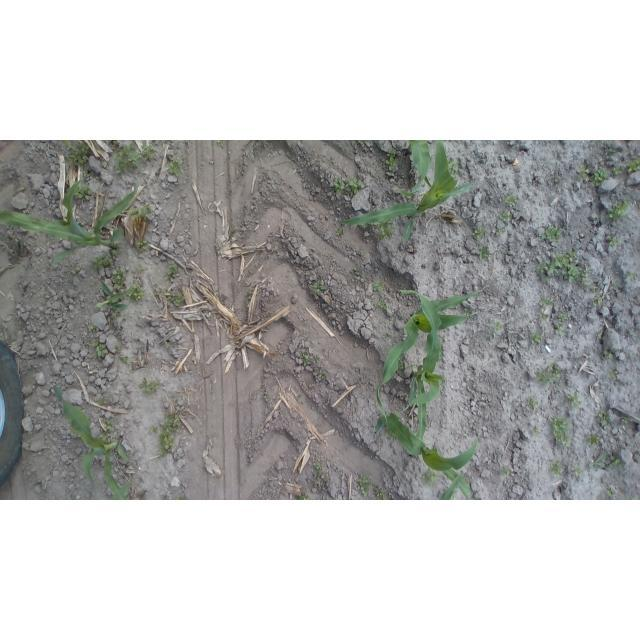Maize: (338, 143, 472, 243), (377, 291, 480, 421), (0, 179, 138, 266), (50, 383, 130, 500), (373, 414, 480, 499), (399, 287, 445, 443), (400, 140, 431, 196), (439, 474, 463, 500)
Weeds: (112, 141, 156, 176), (537, 252, 580, 283), (158, 413, 179, 456), (152, 284, 184, 308), (550, 416, 571, 446), (588, 451, 623, 469), (65, 142, 90, 167), (332, 178, 364, 197), (92, 249, 120, 270), (536, 364, 560, 385), (608, 200, 630, 221), (166, 155, 186, 177), (111, 265, 127, 292), (541, 226, 564, 244), (127, 205, 153, 220), (126, 283, 146, 302), (378, 219, 394, 242), (385, 149, 401, 171), (138, 378, 160, 394), (358, 473, 373, 496), (72, 184, 92, 201), (591, 168, 609, 186), (165, 261, 182, 279), (423, 468, 440, 485), (93, 340, 108, 359), (596, 410, 612, 426), (549, 460, 563, 477), (476, 245, 490, 262), (577, 163, 590, 181), (580, 267, 592, 286), (567, 392, 581, 408), (531, 331, 546, 345), (627, 156, 640, 172), (447, 158, 460, 174), (375, 488, 390, 500), (556, 324, 569, 337), (314, 280, 327, 293), (499, 210, 513, 222), (136, 239, 150, 251), (474, 224, 485, 239), (372, 280, 385, 292), (601, 489, 615, 500), (539, 297, 553, 308), (603, 349, 618, 359), (588, 432, 600, 444), (607, 368, 618, 381), (605, 149, 617, 160), (527, 396, 537, 408), (301, 352, 309, 367), (312, 461, 320, 476), (573, 467, 583, 478), (103, 420, 114, 430), (395, 188, 407, 197), (376, 300, 388, 309), (398, 355, 405, 370), (493, 321, 503, 331), (594, 295, 603, 306), (505, 196, 516, 205), (613, 166, 624, 175), (353, 140, 365, 148), (135, 264, 145, 273), (119, 356, 129, 365), (610, 235, 619, 245), (539, 312, 550, 320), (386, 429, 394, 440), (557, 312, 567, 320), (533, 426, 540, 437), (405, 364, 416, 371), (82, 171, 90, 180), (100, 432, 109, 440), (112, 311, 120, 320), (503, 468, 512, 476), (621, 417, 631, 424), (296, 495, 309, 500), (217, 140, 225, 148), (336, 228, 344, 236), (628, 272, 636, 280), (596, 330, 603, 339), (354, 268, 361, 277), (126, 452, 133, 461), (590, 286, 598, 293), (465, 307, 472, 315), (319, 371, 327, 378), (151, 425, 158, 433), (98, 398, 105, 405), (90, 325, 97, 332), (450, 493, 457, 500), (624, 494, 632, 500), (314, 354, 320, 362), (497, 227, 503, 234), (115, 346, 121, 353), (72, 270, 79, 276), (439, 351, 443, 359), (396, 414, 400, 422), (177, 496, 185, 500), (383, 334, 388, 340), (168, 341, 173, 347), (264, 397, 269, 402), (324, 478, 329, 483), (452, 175, 456, 181), (554, 176, 558, 180), (454, 185, 459, 188), (614, 284, 617, 289)
